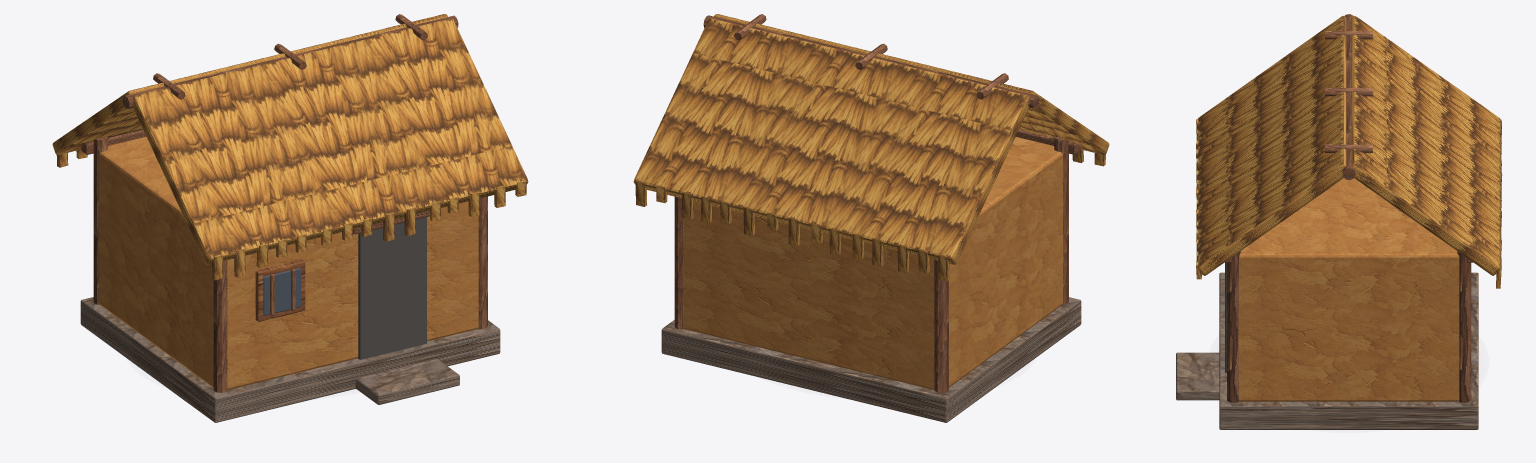
Rendered from hut.glb.
3 renders of one model, left to right at view 1: azimuth 30°, elevation 25°; view 2: azimuth 150°, elevation 25°; view 3: azimuth 270°, elevation 25°, orthographic. The views are drawn at different scales.
Visible parts, largest first — view 1: roof, walls, footing, door, roof.001, step, post, post.002, winFrame, winDark, post.001, ridge; view 2: roof.001, walls, footing, roof, post.001, post.003, post, ridge; view 3: walls, roof, roof.001, footing, step, post.003, post.002, ridge, ridgeTie.002.
Part boxes in pixels (bbox=[...]): roof: bbox=[133, 18, 528, 264]; walls: bbox=[98, 137, 478, 389]; footing: bbox=[80, 297, 500, 422]; door: bbox=[358, 217, 426, 359]; roof.001: bbox=[52, 14, 447, 154]; step: bbox=[355, 359, 459, 404]; post: bbox=[213, 260, 227, 392]; post.002: bbox=[477, 196, 487, 329]; winFrame: bbox=[255, 259, 305, 321]; winDark: bbox=[263, 268, 300, 315]; post.001: bbox=[93, 136, 107, 304]; ridge: bbox=[122, 15, 458, 108]; roof.001: bbox=[633, 18, 1028, 264]; walls: bbox=[683, 137, 1062, 389]; footing: bbox=[661, 297, 1081, 422]; roof: bbox=[714, 14, 1109, 154]; post.001: bbox=[934, 260, 948, 392]; post.003: bbox=[674, 196, 684, 329]; post: bbox=[1054, 136, 1068, 304]; ridge: bbox=[703, 15, 1039, 108]; walls: bbox=[1239, 178, 1459, 401]; roof: bbox=[1197, 16, 1346, 275]; roof.001: bbox=[1351, 16, 1500, 275]; footing: bbox=[1219, 272, 1478, 429]; step: bbox=[1176, 352, 1219, 400]; post.003: bbox=[1457, 251, 1471, 402]; post.002: bbox=[1227, 251, 1240, 402]; ridge: bbox=[1342, 14, 1355, 179]; ridgeTie.002: bbox=[1325, 144, 1372, 152].
Bounding box in the file's own units: 4.3 × 3.16 × 3.6.
Materials: 11 (9 with a texture image).
